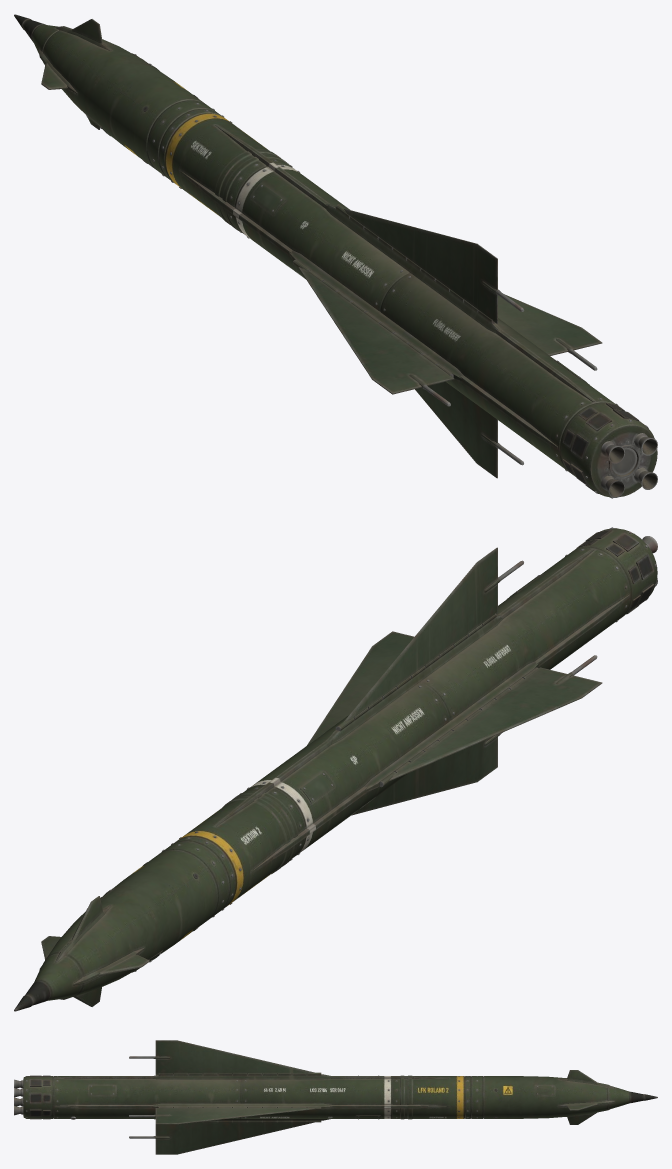
Rendered from msl_roland.glb.
3 views of the same model, one above another, from view 1: azimuth 30°, elevation 25°; view 2: azimuth 150°, elevation 25°; view 3: azimuth 270°, elevation 25° (orthographic). The views are drawn at different scales.
Parts seen in each view (by area): view 1: body|RL_msl; view 2: body|RL_msl; view 3: body|RL_msl.
Boxes of the visible parts, x1,y1,x2,y2 form: body|RL_msl: [14, 14, 657, 498]; body|RL_msl: [14, 527, 657, 1011]; body|RL_msl: [14, 1040, 657, 1154].
Size of the model in its own units: 0.47 by 0.47 by 2.4.
1 material, 1 textured.
